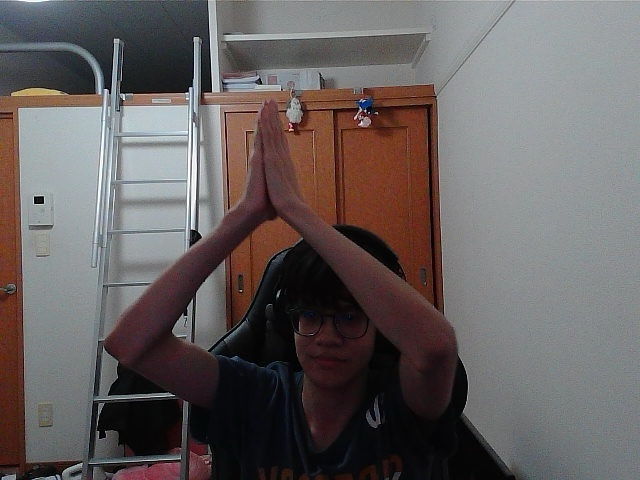pray: (262, 103, 288, 206)
